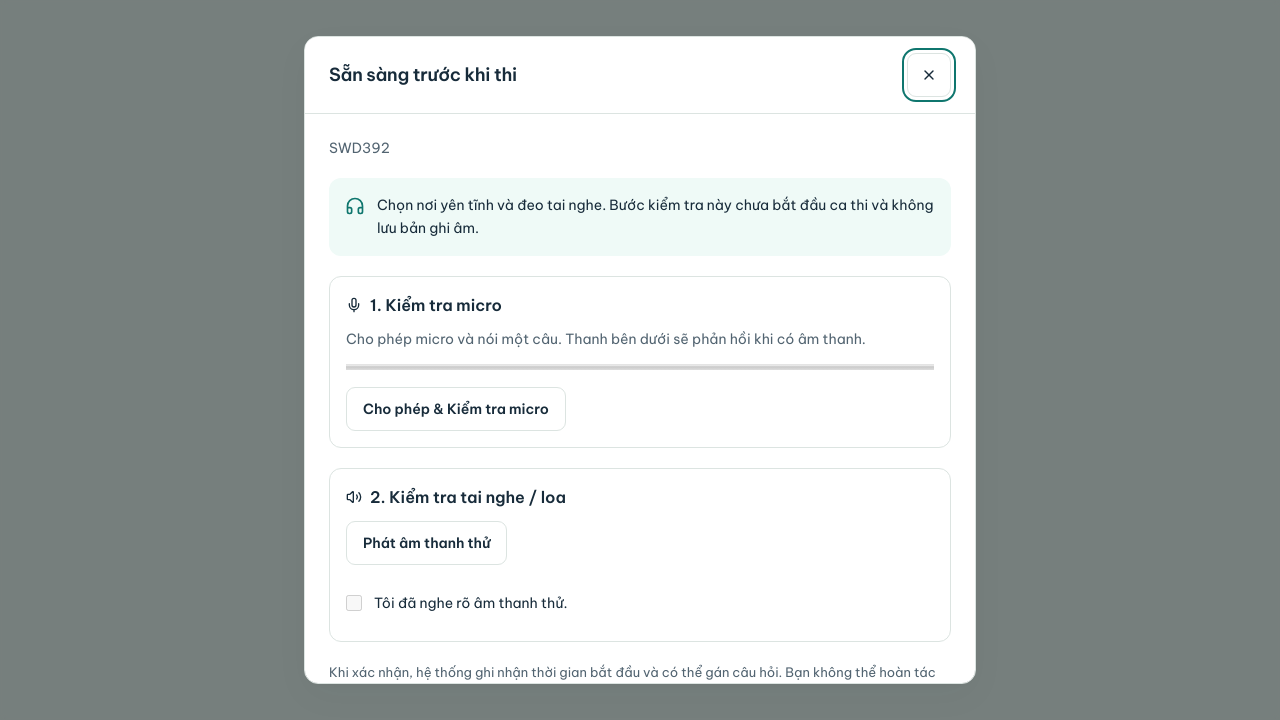
preflight device exceptions › blocks repeat start after an uncertain network failure
This screenshot has width=1280, height=720.
Click the button "Cho phép & Kiểm tra micro" at [456, 409], box [346, 387, 566, 431]
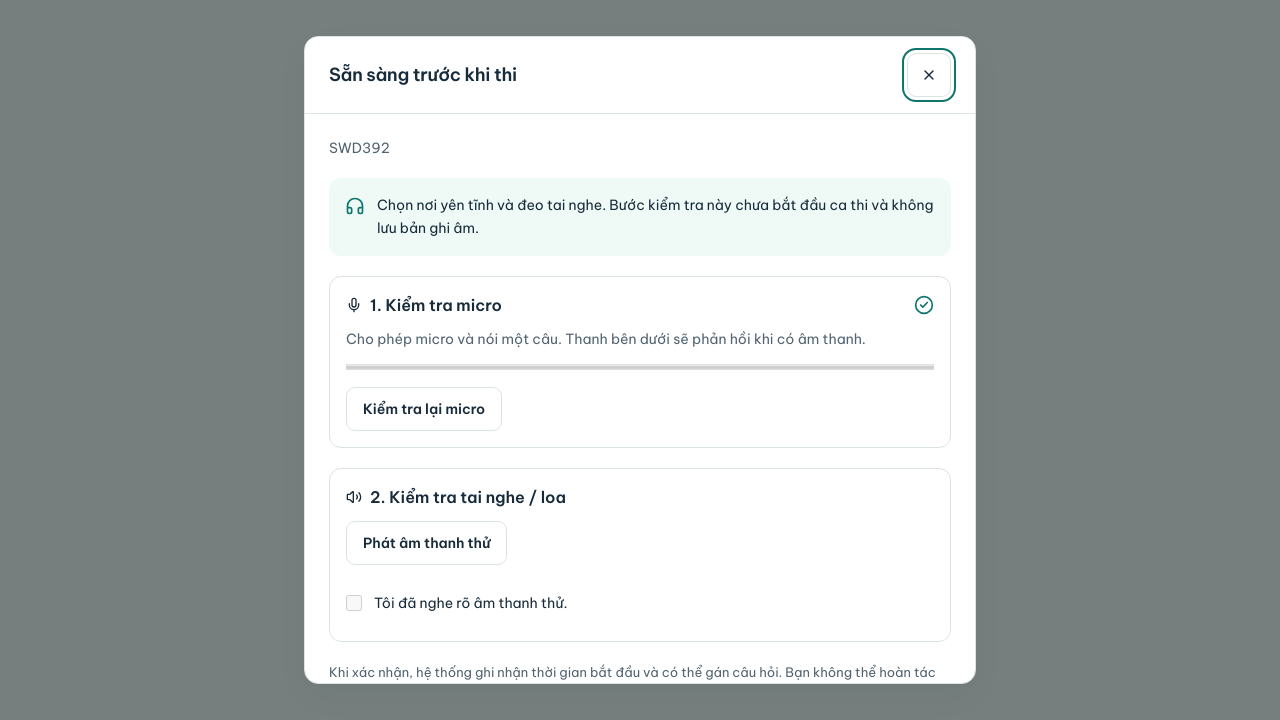
Now the button "Kiểm tra lại micro" is shown, box [346, 387, 502, 431]
Click the button "Phát âm thanh thử" at [427, 543], box [346, 521, 507, 565]
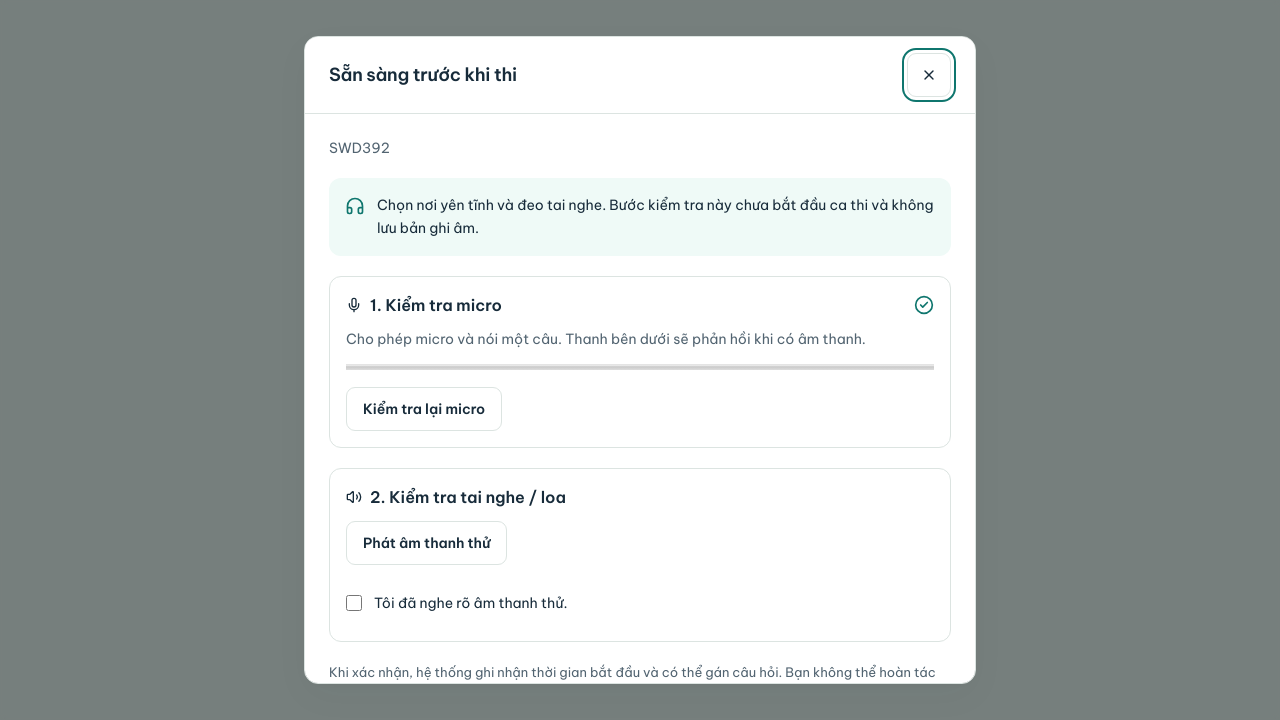
Now the checkbox is enabled
Click the checkbox at [354, 603], box [346, 595, 362, 611]
(page scrolled)
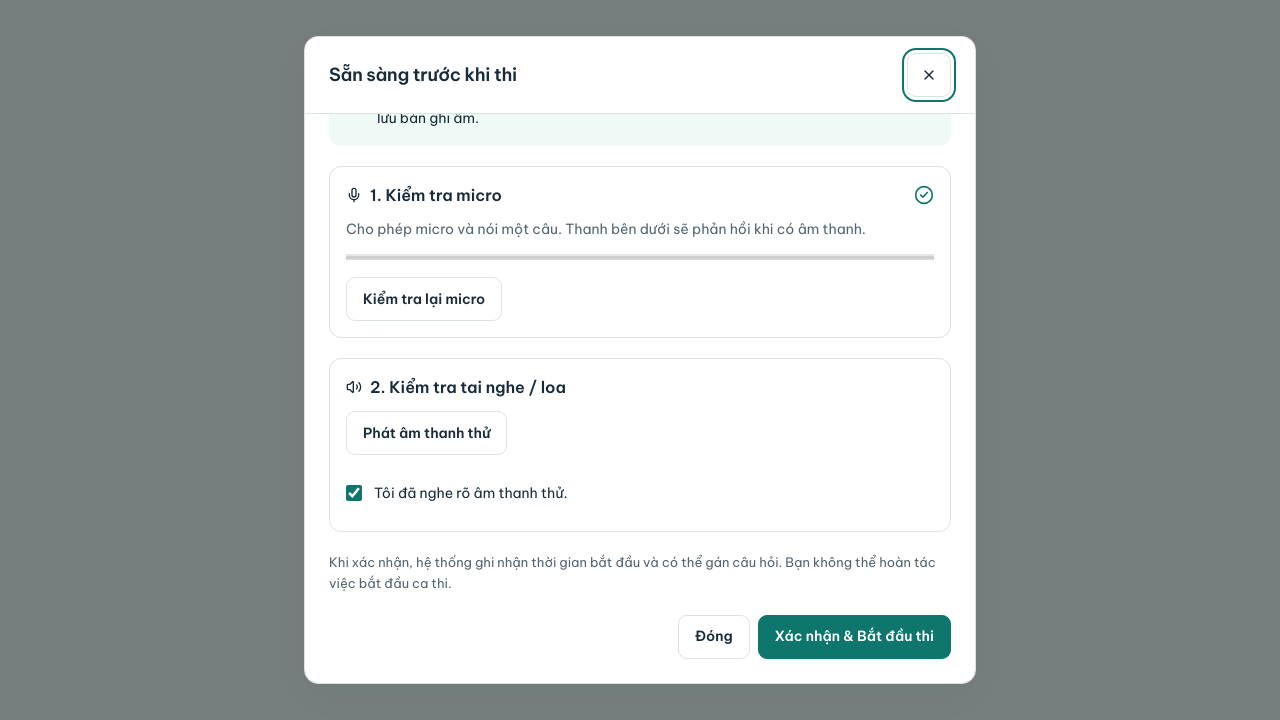
Click the button "Xác nhận & Bắt đầu thi" at [854, 637], box [758, 615, 951, 659]
(page scrolled)
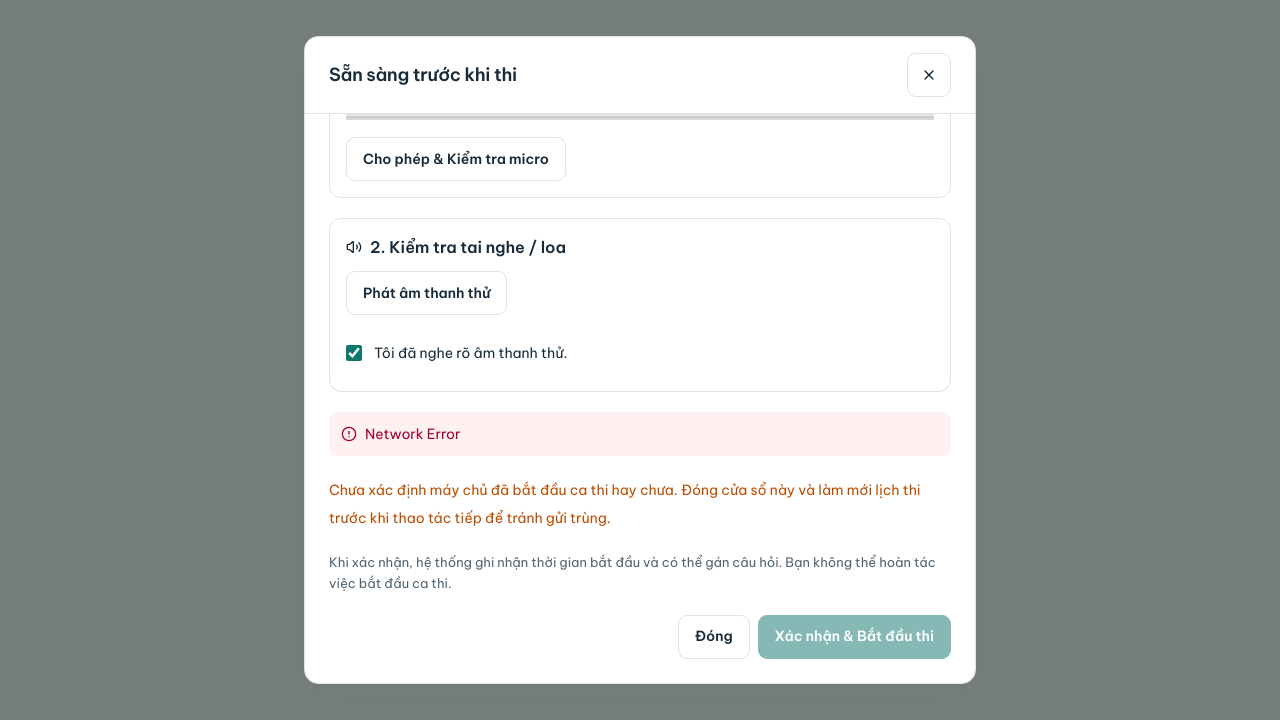
Now the message "Network Error" is shown, box [329, 412, 951, 456]
Now the text "Chưa xác định máy chủ" is shown, box [329, 481, 921, 527]
Now the button "Xác nhận & Bắt đầu thi" is disabled, box [758, 615, 951, 659]
